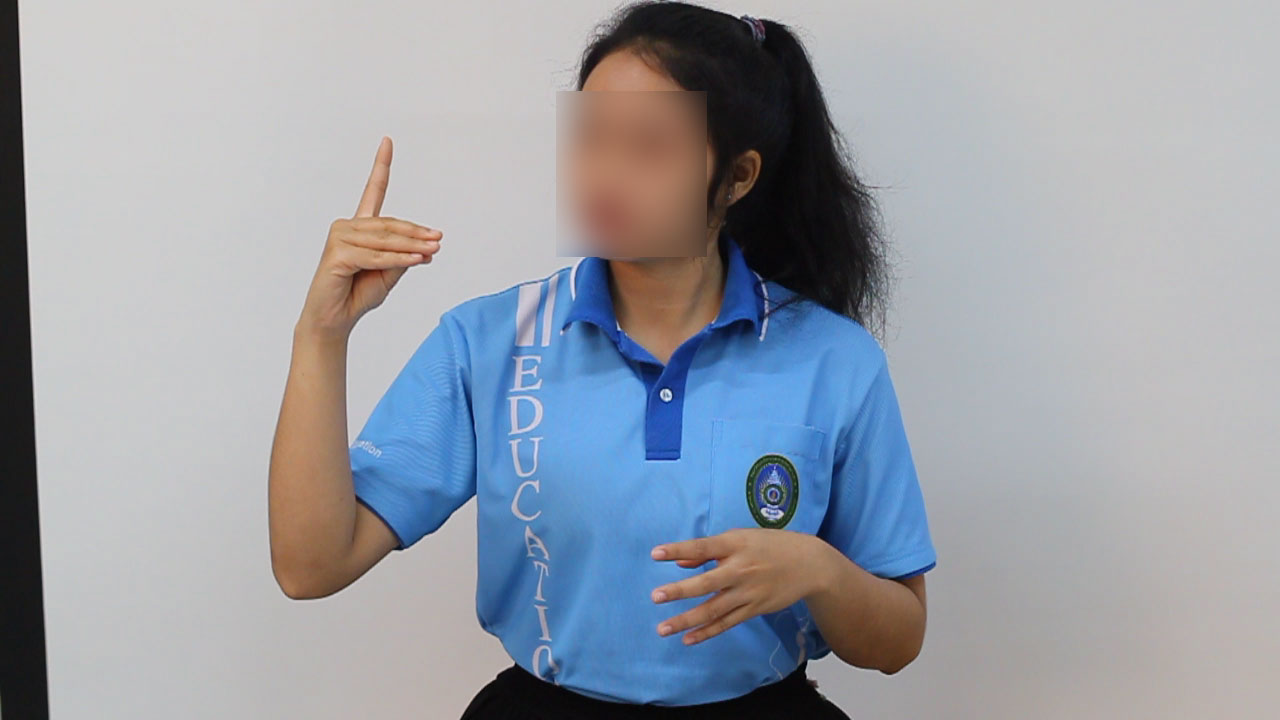dor: (285, 123, 449, 355)
